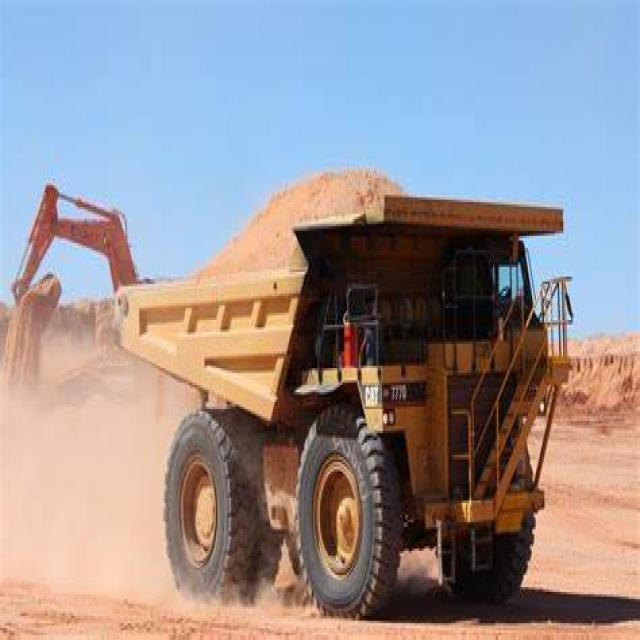dump_truck: (107, 125, 567, 633)
